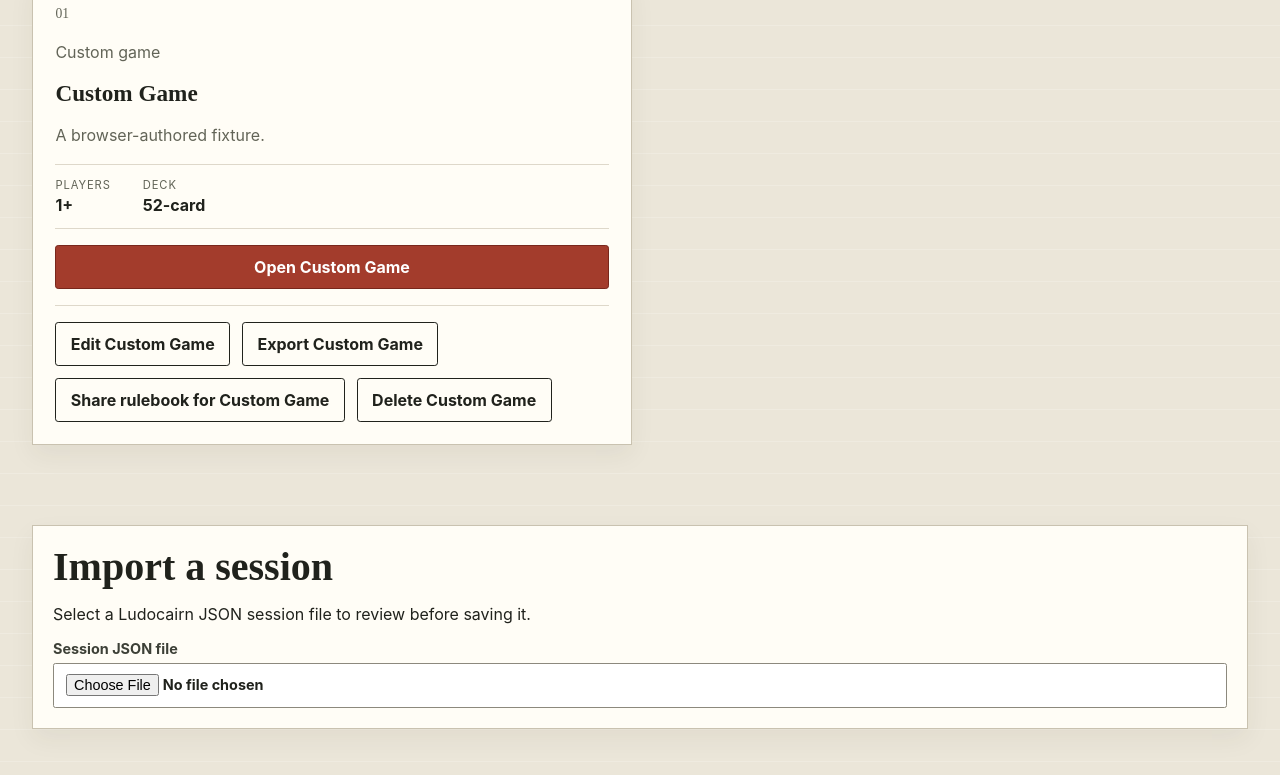
custom game catalog management › directs overlong shares to the Markdown export fallback
The image size is (1280, 775).
(page scrolled)
What coordinates should you click on to do the following:
click the button "Share rulebook for Custom Game"
I would click on:
 (200, 400)
Its box is [55,378,345,422].
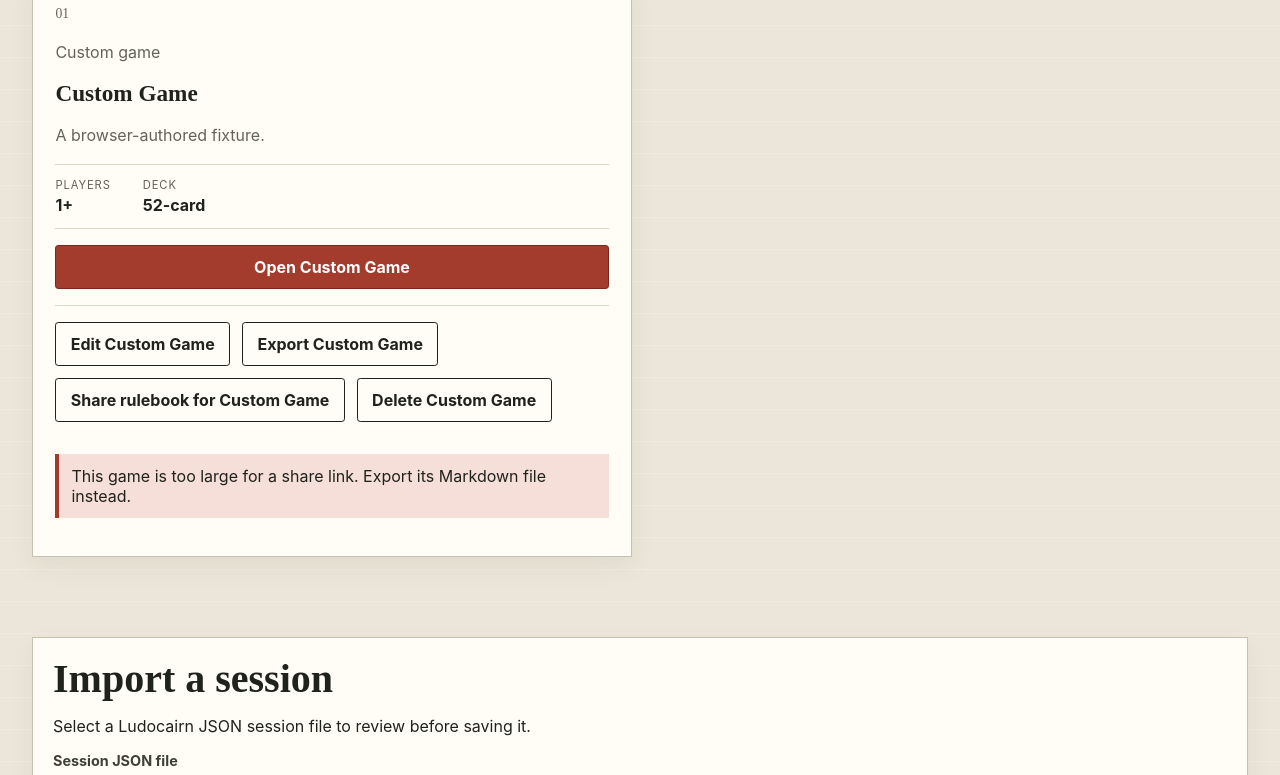
Expected: the button "Export Custom Game" is shown, [242,322,438,366]
Expected: the message reads "This game is too large for a share link. Export its Markdown file instead.", [71,466,546,506]
